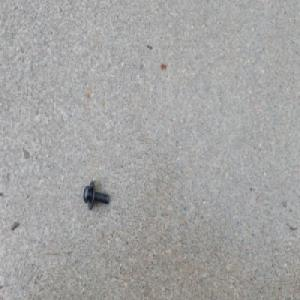BoltWasher: (82, 179, 109, 209)
